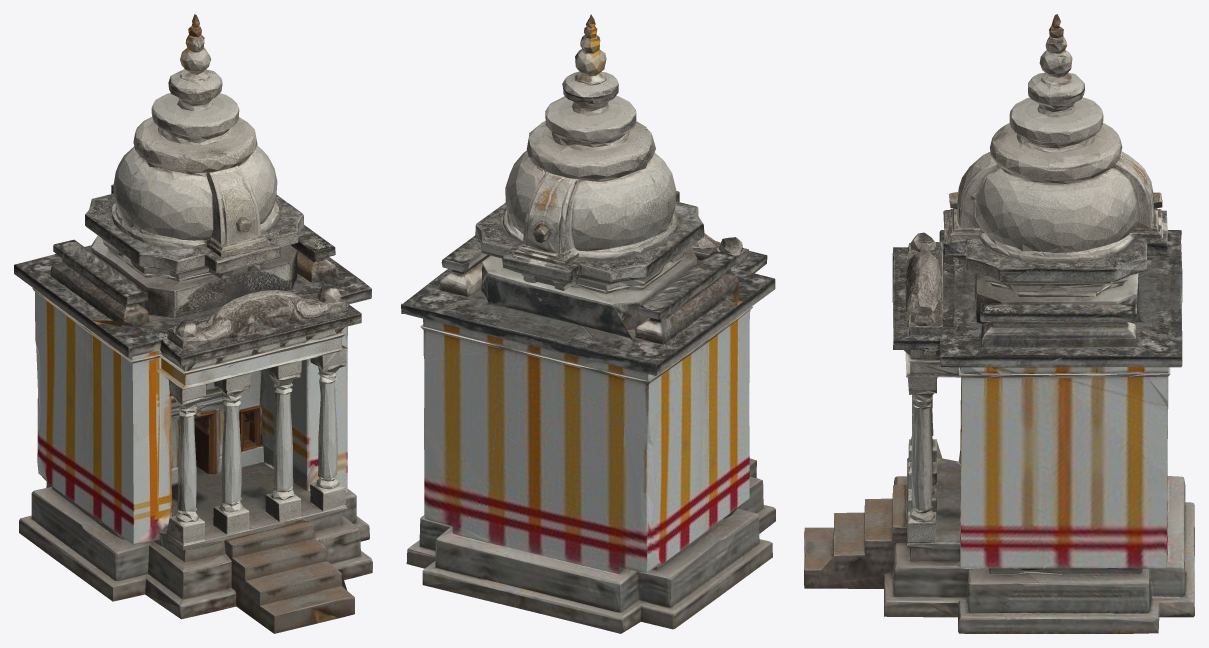
File: indian_village_temple.glb
3 renders of one model, left to right at view 1: azimuth 30°, elevation 25°; view 2: azimuth 150°, elevation 25°; view 3: azimuth 270°, elevation 25°, orthographic. The views are drawn at different scales.
Visible parts, largest first — view 1: m; view 2: m; view 3: m.
Part boxes in pixels (x1,y1,x2,y2): m: (14, 14, 372, 633); m: (401, 14, 775, 633); m: (804, 14, 1194, 633).
Size of the model in its own units: 3.61 by 7 by 4.48.
1 material, 1 textured.
